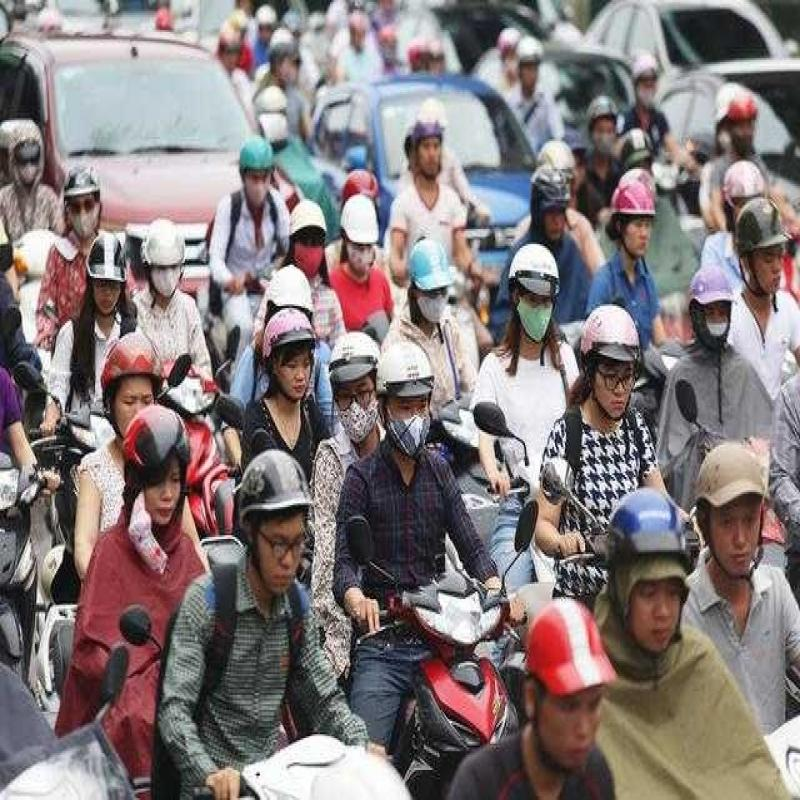bike: (390, 562, 532, 742), (240, 693, 425, 800)
